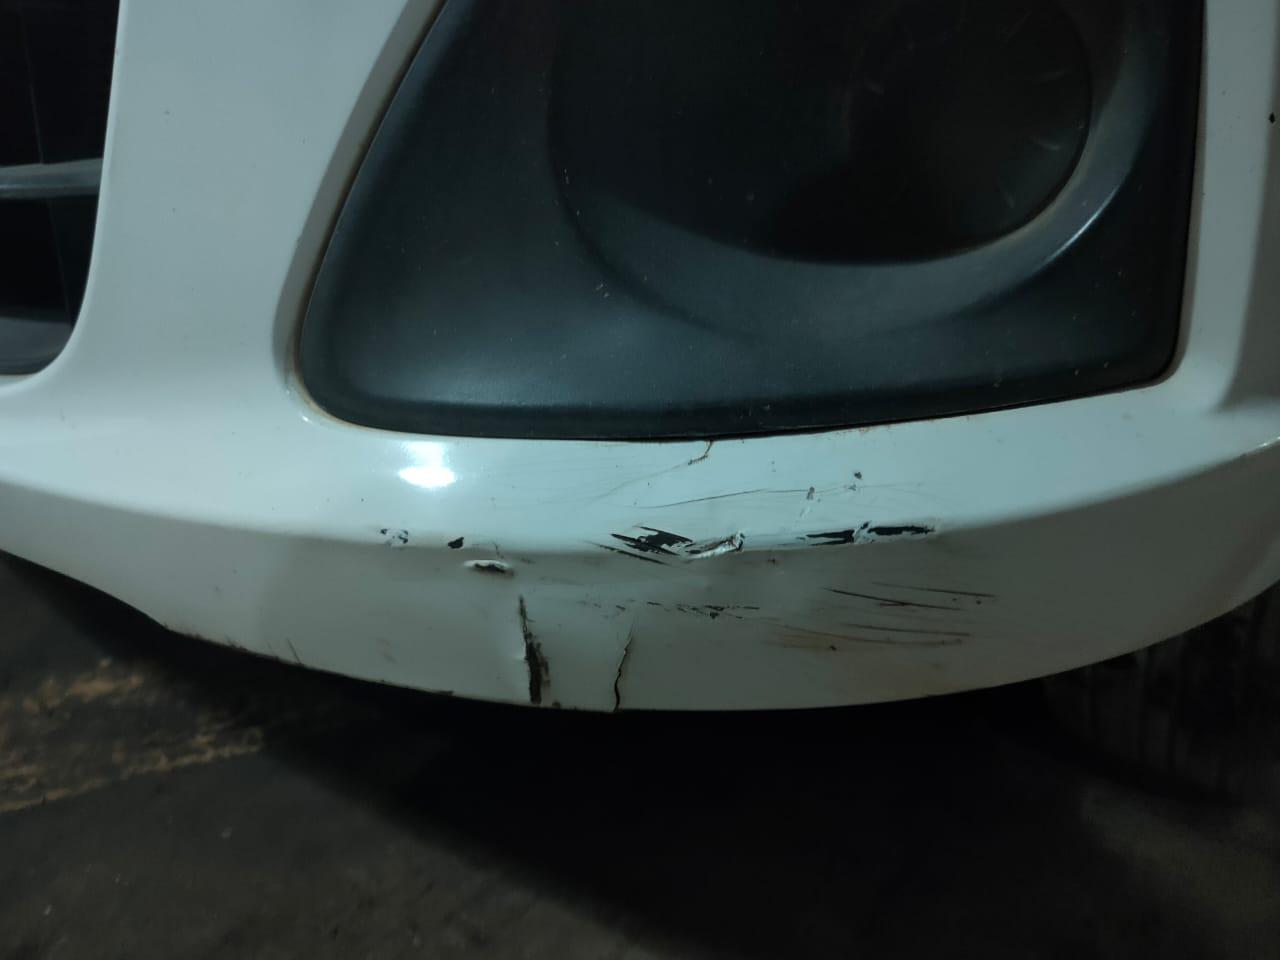front-bumper-dent: (233, 6, 1236, 732)
